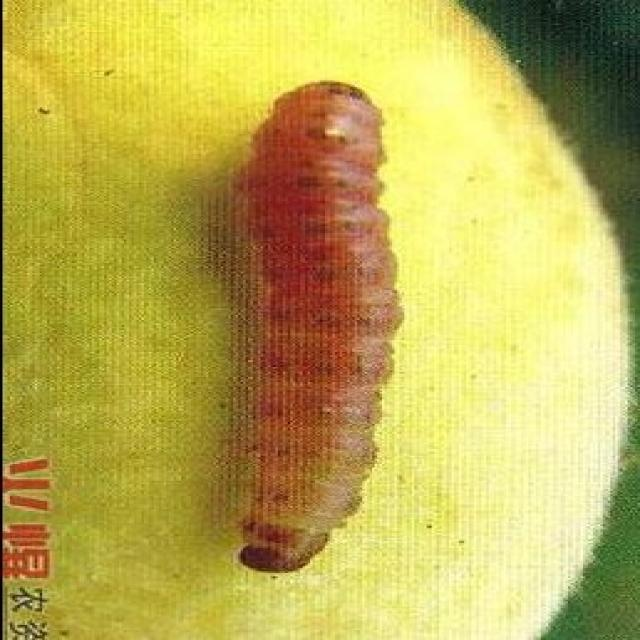peach borer: (217, 85, 400, 584)
